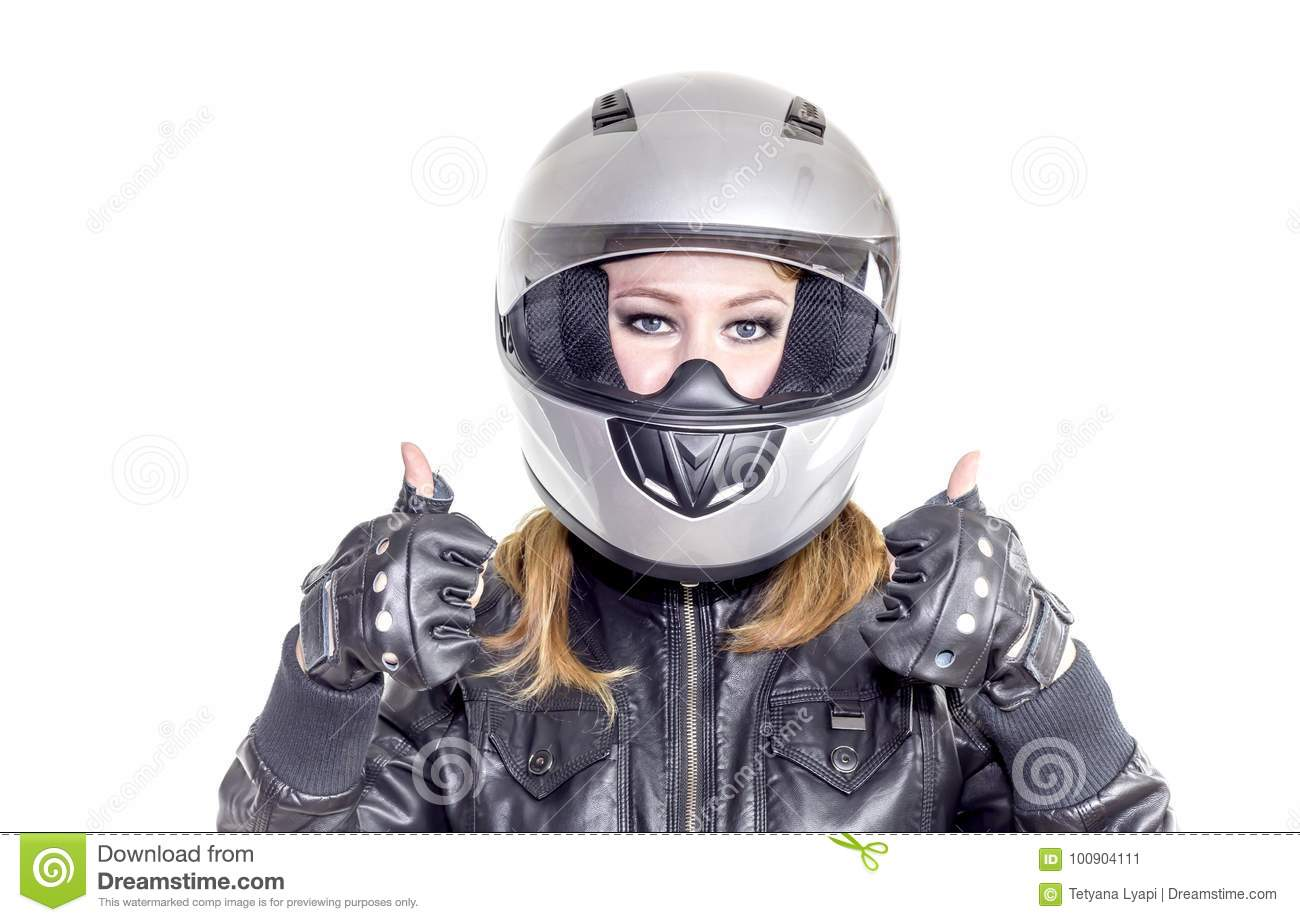helmet: (503, 84, 904, 563)
